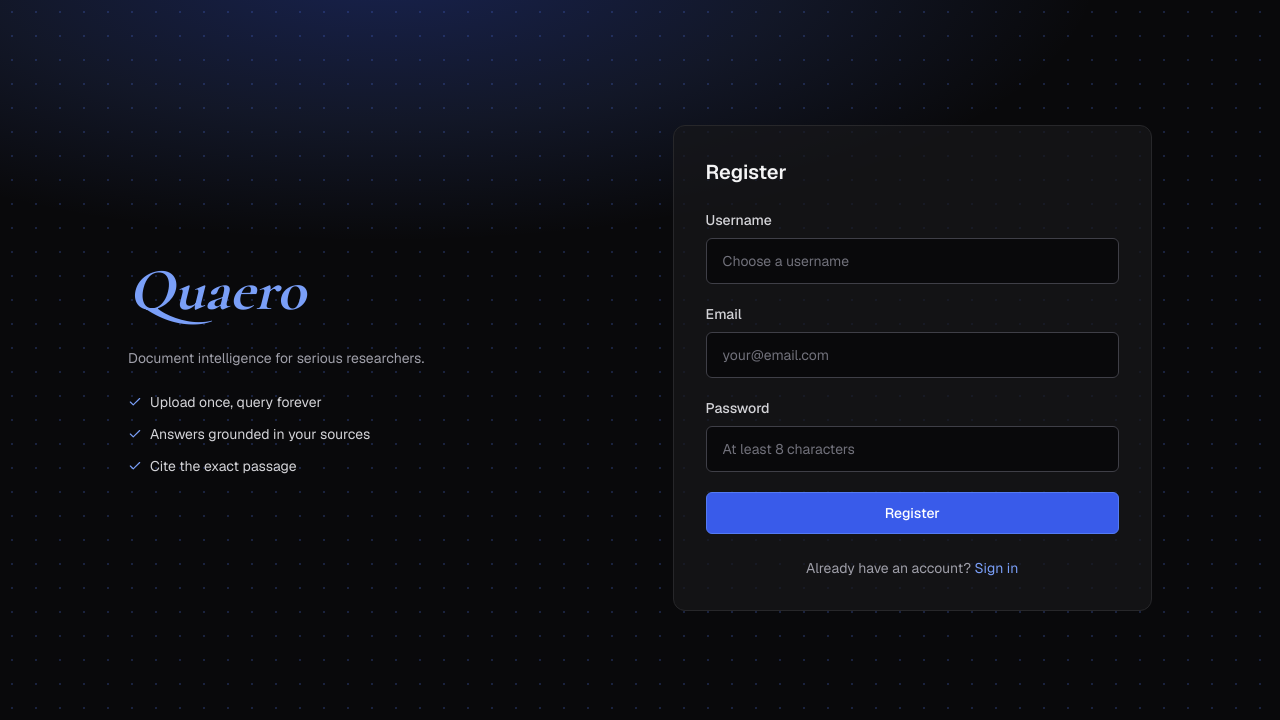
Scenario: RegisterPage form behavior › renders API errors and re-enables submit
The width and height of the screenshot is (1280, 720).
Type "alice" into the field labelled "Username" at (912, 261), box x1=706 y1=238 x2=1119 y2=284
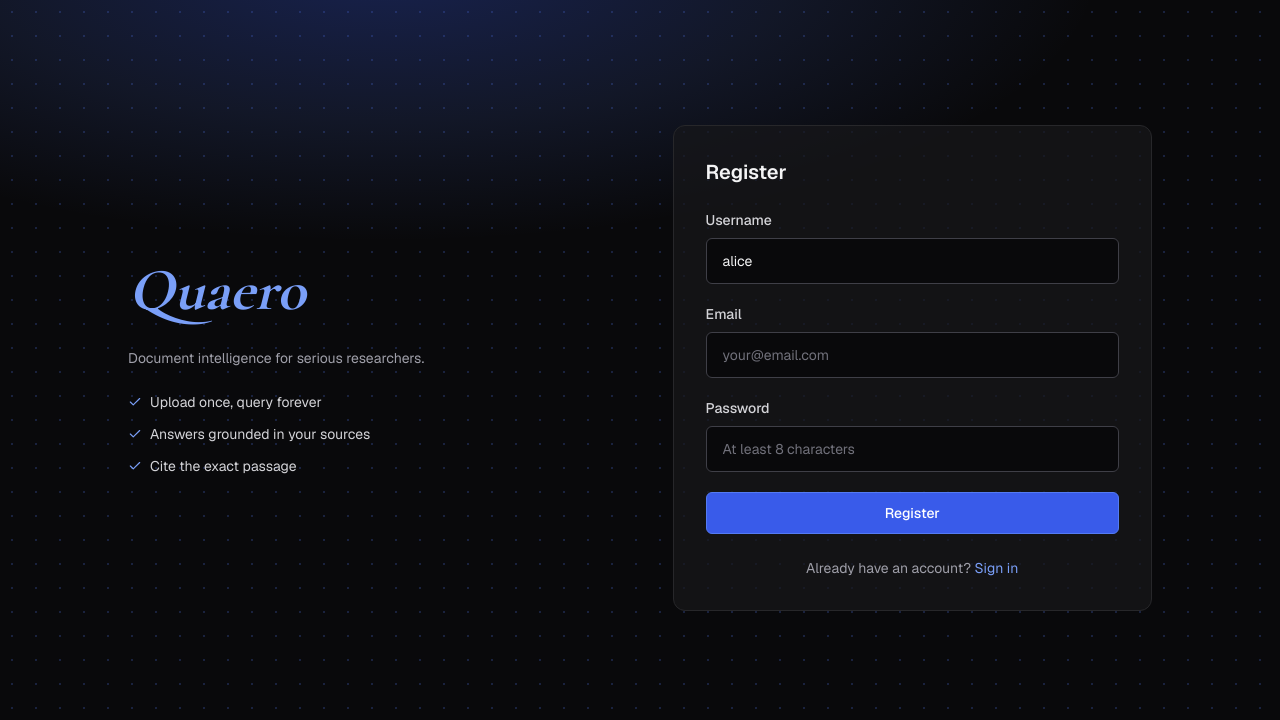
Type "alice@example.com" into the field labelled "Email" at (912, 355), box x1=706 y1=332 x2=1119 y2=378
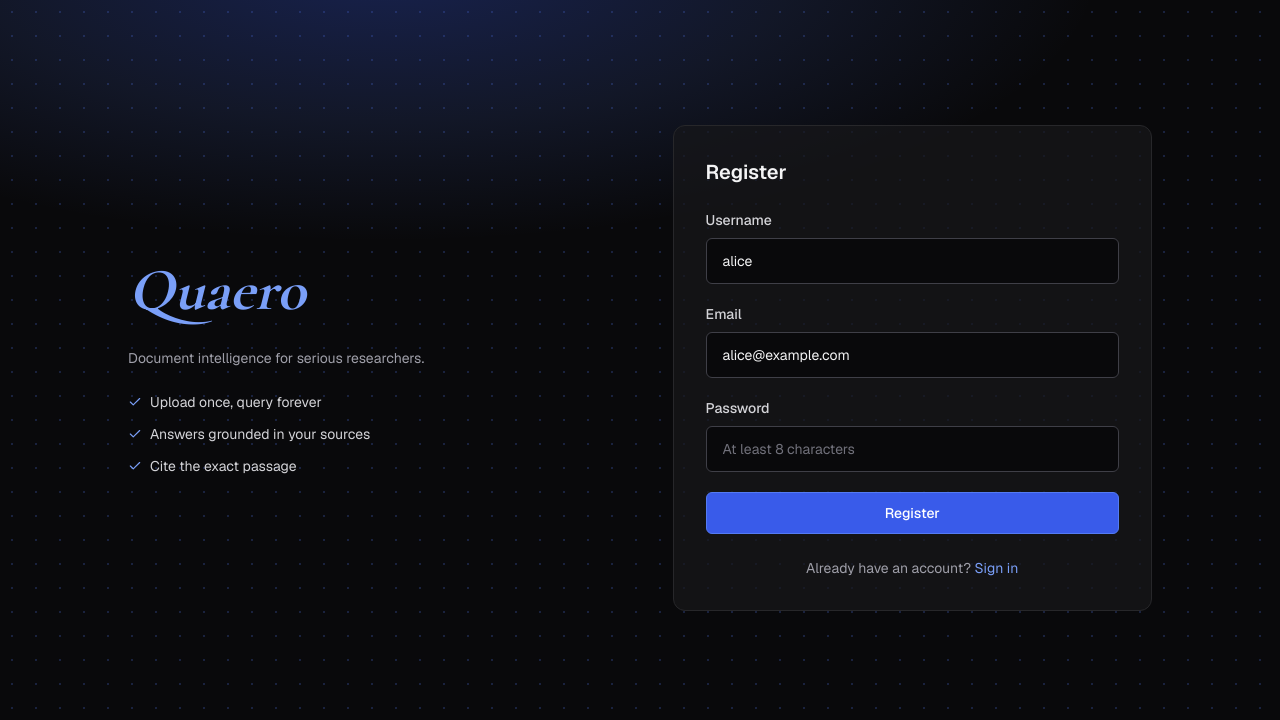
Type "strong-password" into the password field labelled "Password" at (912, 449), box x1=706 y1=426 x2=1119 y2=472
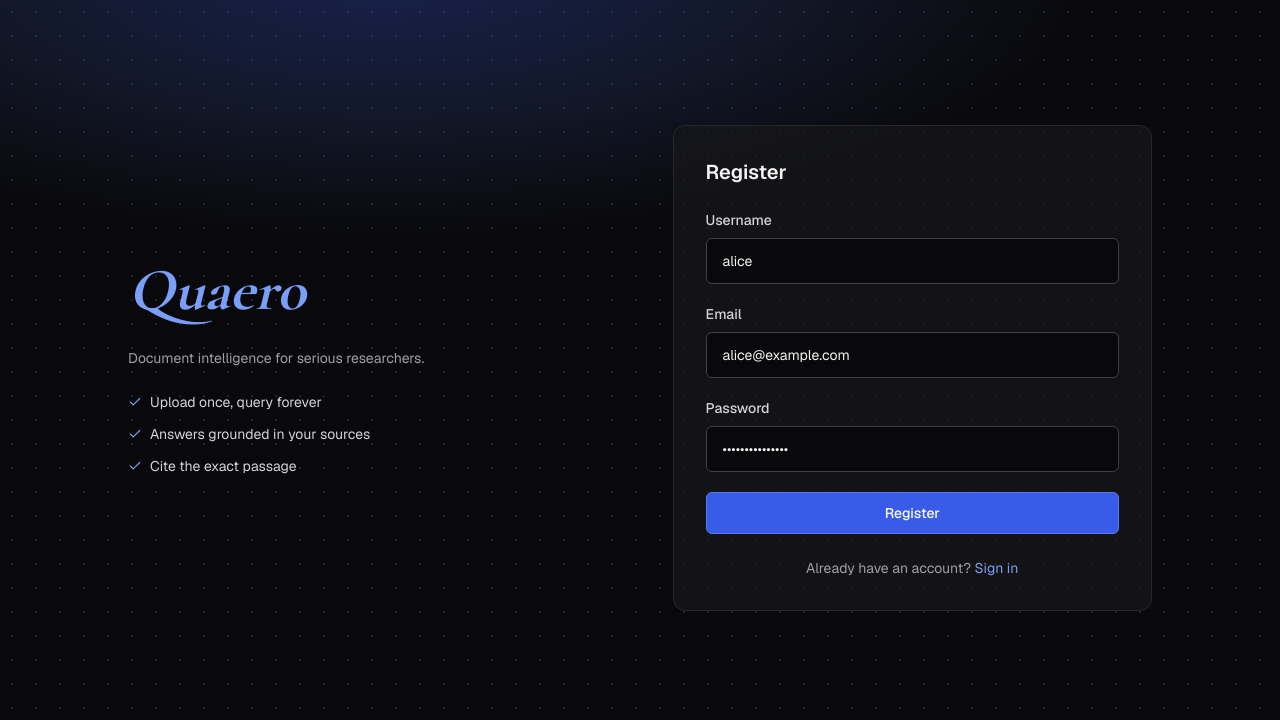
Click the button "Register" at (912, 513), box x1=706 y1=492 x2=1119 y2=534
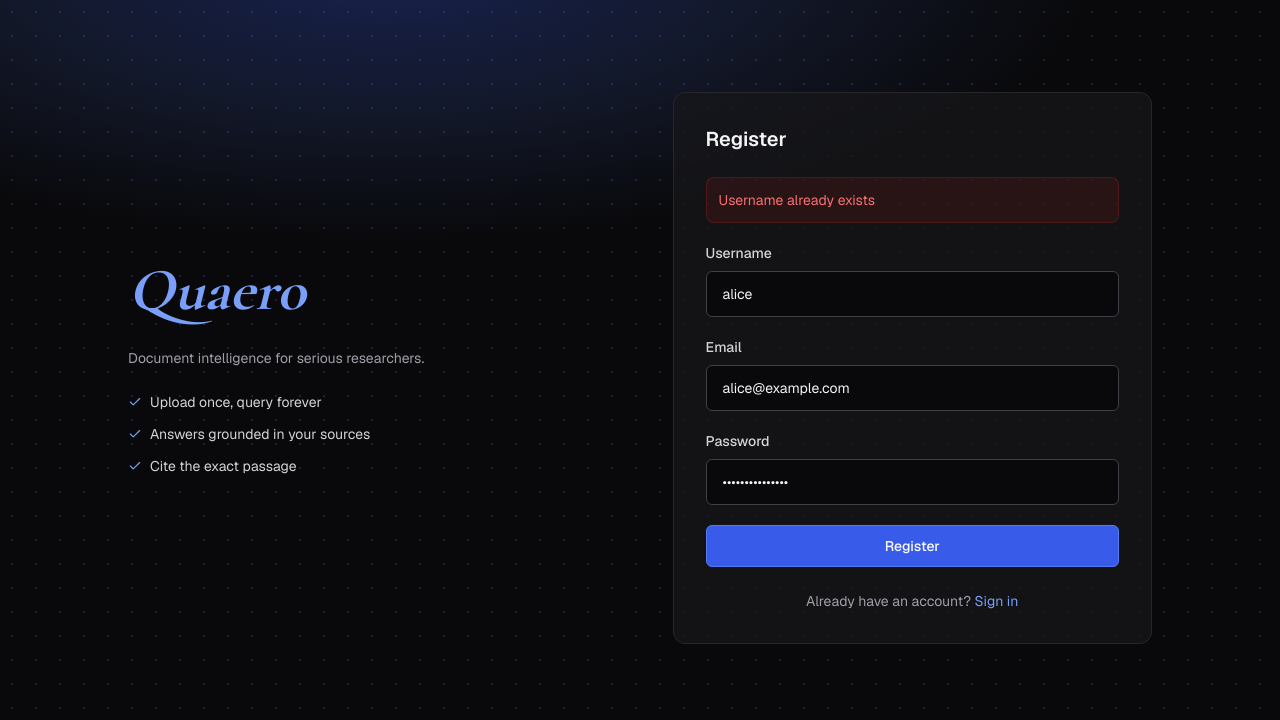
Expected: the button "Register" is enabled, x1=706 y1=525 x2=1119 y2=567
Now the text "Username already exists" is shown, box x1=706 y1=177 x2=1119 y2=223
